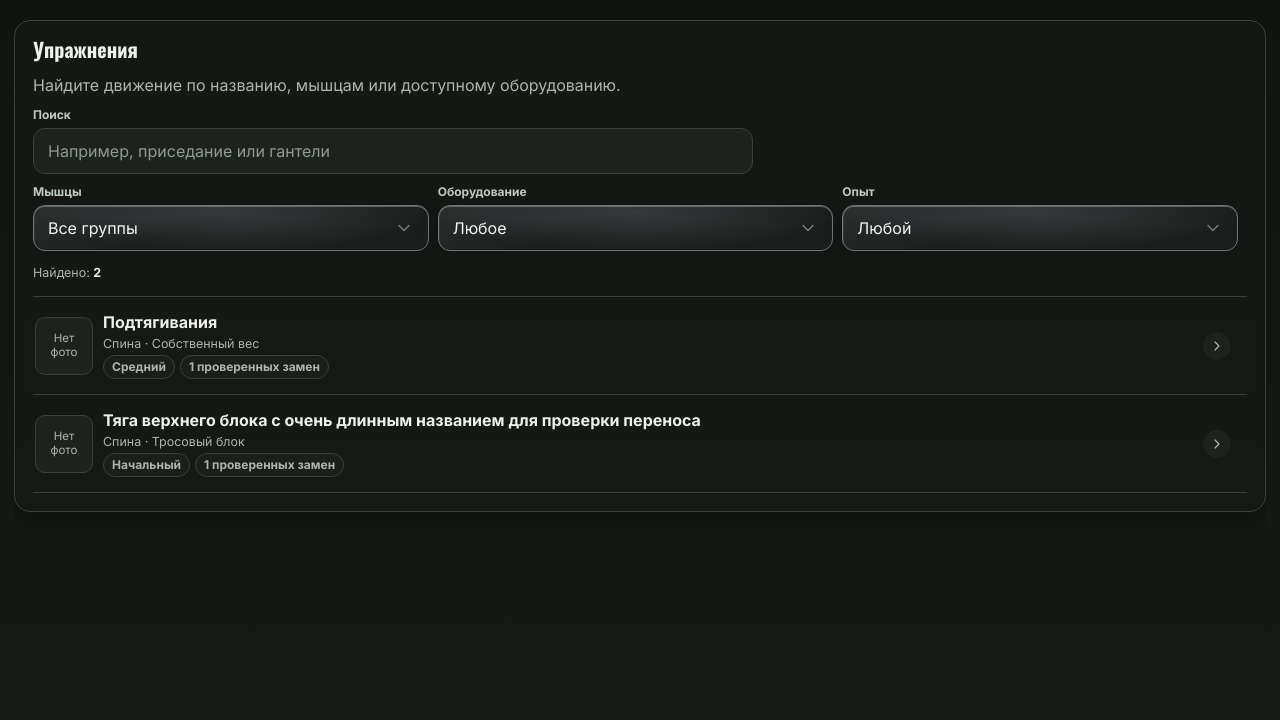
it: ExerciseCatalog › filters the visible list by structured equipment and supports an empty search state
The image size is (1280, 720).
Expected: the text "Подтягивания" is shown, [103,312,217,332]
Click the button named "Техника и детали: Тяга верхнего блока с очень длинным названием" at (64, 444), box [35,408,1231,479]
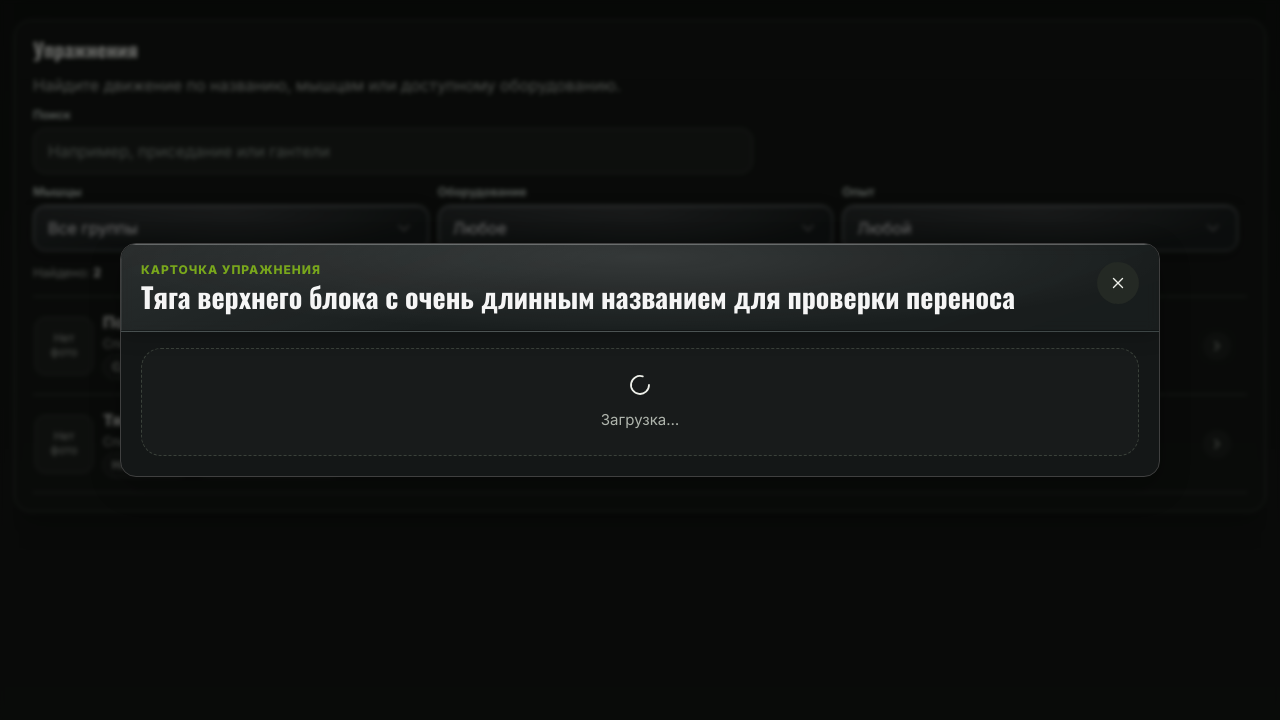
Expected: the dialog "Тяга верхнего блока" is shown
Click the button named "Закрыть карточку упражнения" at (1118, 283), box [1097,262,1139,304]
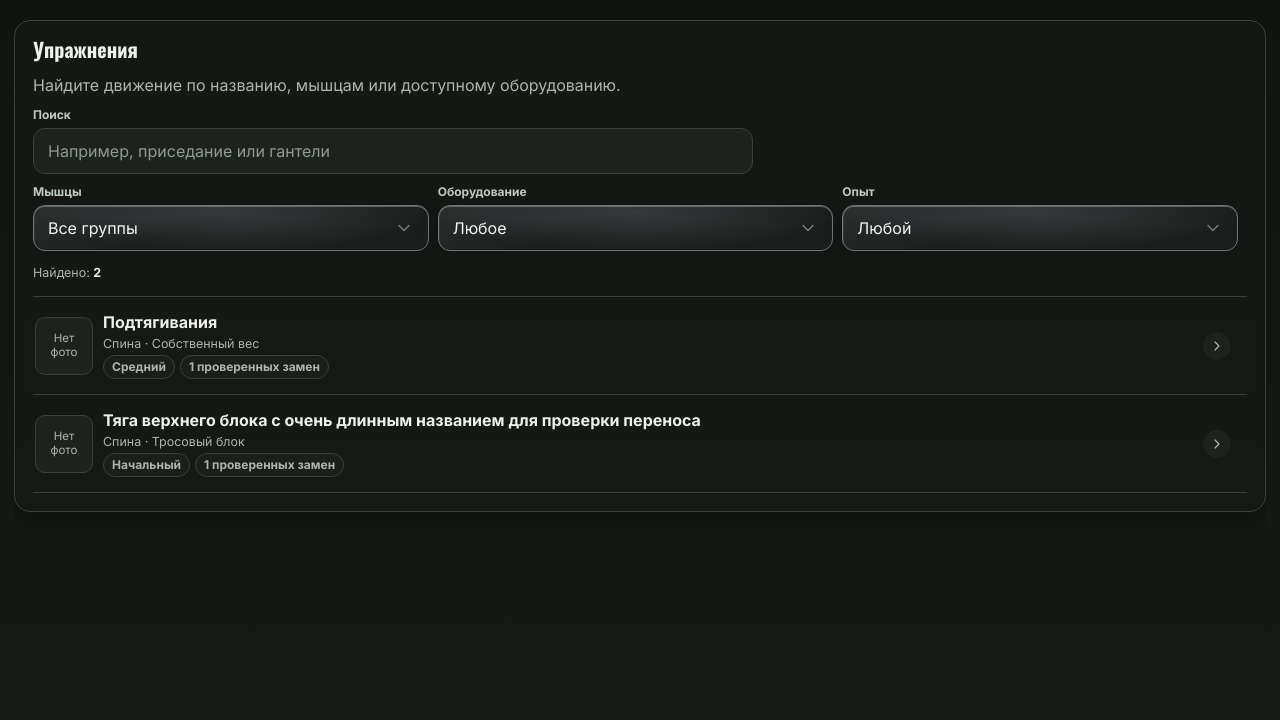
Select "Тросовый блок" in the dropdown labelled "Оборудование" at (636, 228), box [438,205,833,251]
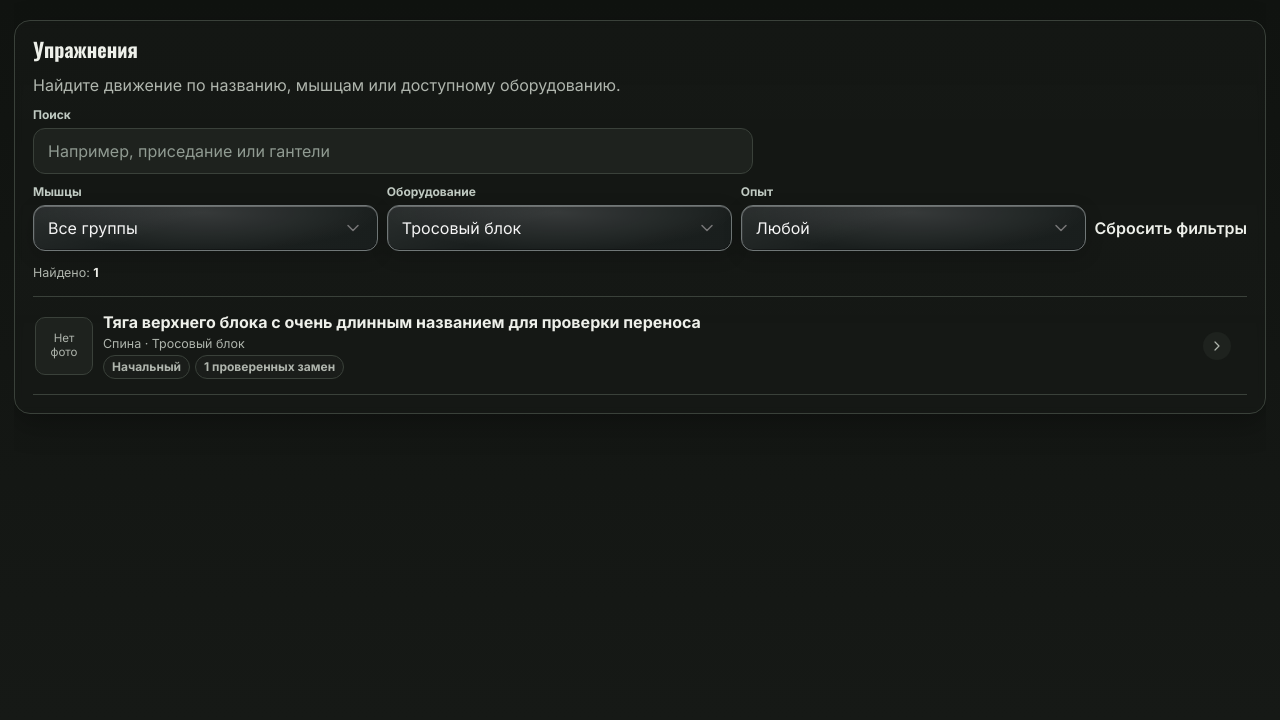
Expected: the text "Тяга верхнего блока с очень длинным названием" is shown, [103,312,701,332]
Expected: the button "Подтягивания" is gone
Type "верхняя тяга хаммер" into the search field labelled "Поиск" at (393, 151), box [33,128,753,174]
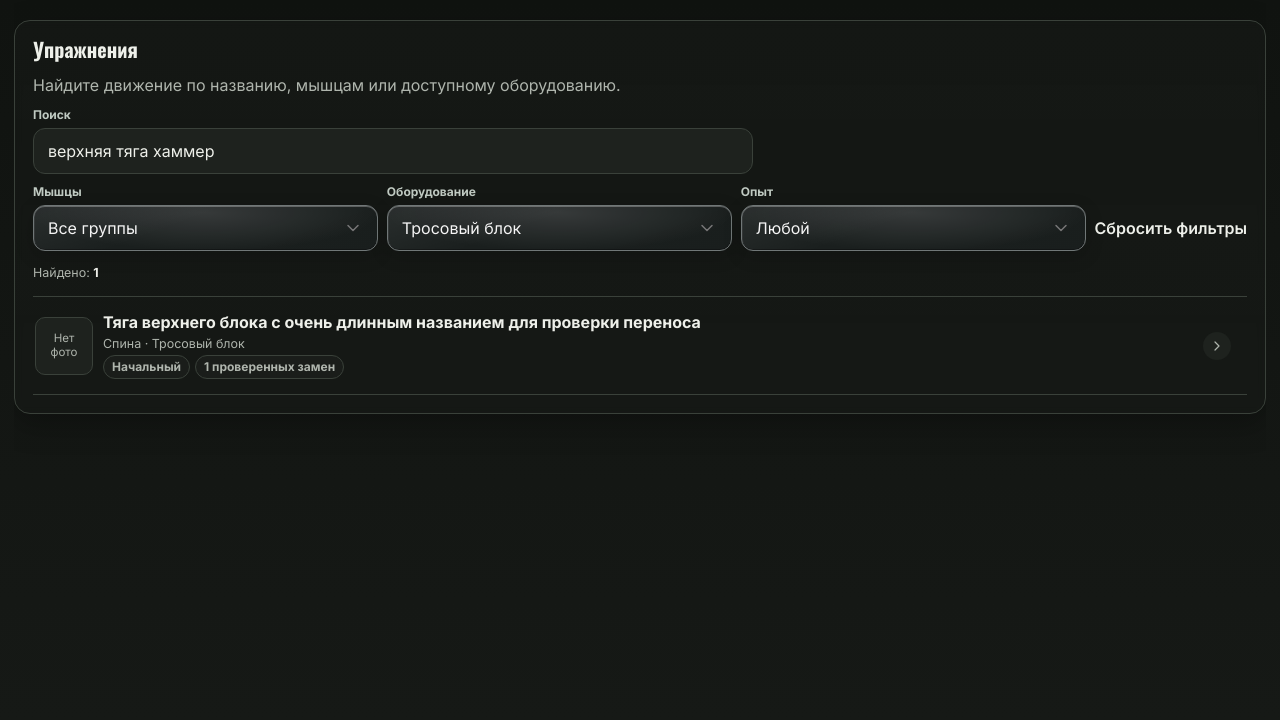
Expected: the text "Тяга верхнего блока с очень длинным названием" is shown, [103,312,701,332]
Expected: the button "Подтягивания" is not shown
Replace the text in the search field labelled "Поиск" with "несуществующее движение" at (393, 151), box [33,128,753,174]
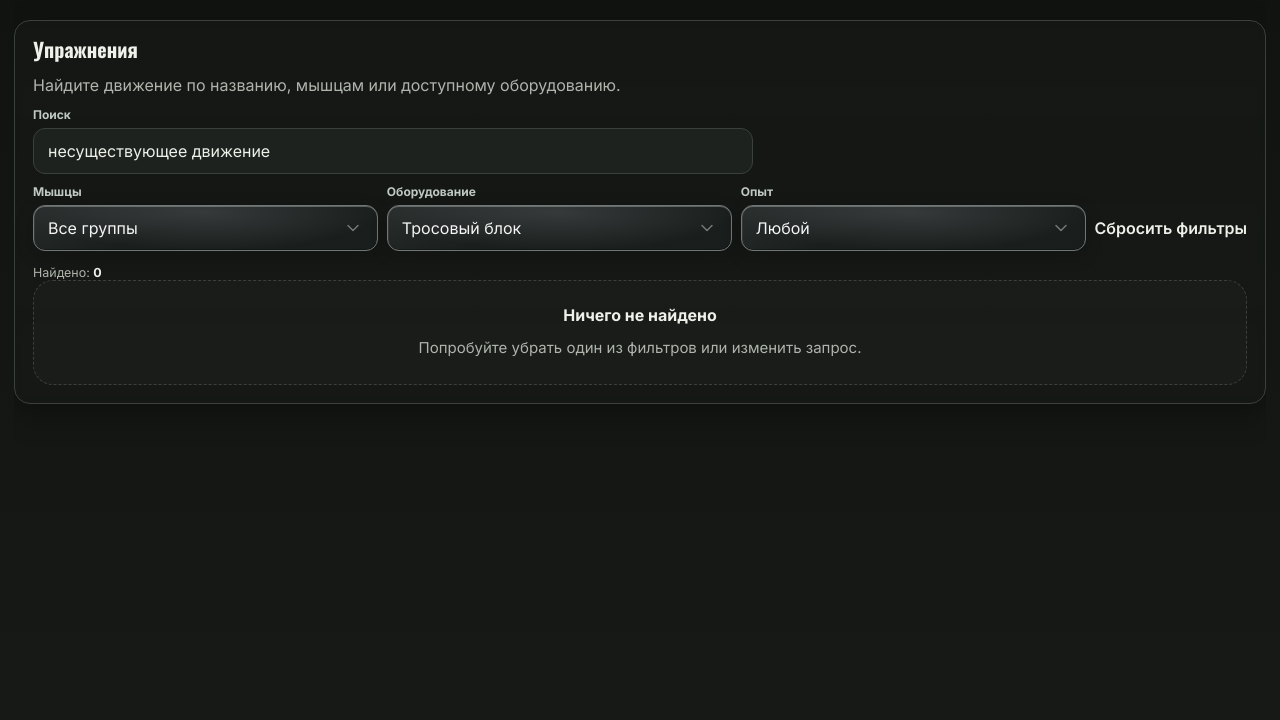
Expected: the button "Сбросить фильтры" is shown, [1094,207,1247,251]
Expected: the text "Ничего не найдено" is shown, [563,305,717,325]
